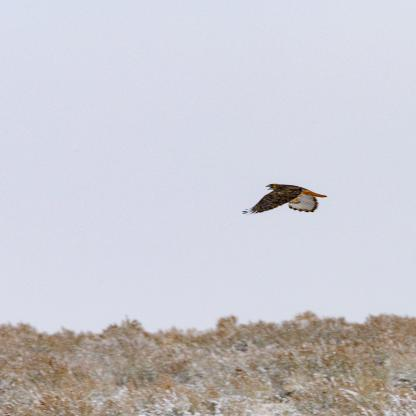bird: (242, 183, 328, 216)
